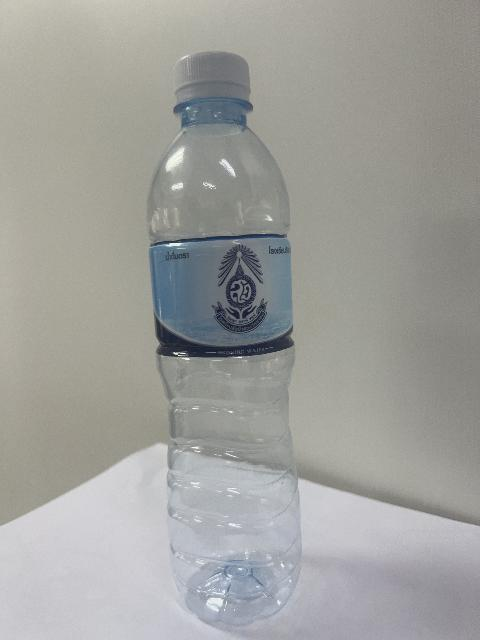bottle: (148, 52, 301, 624)
